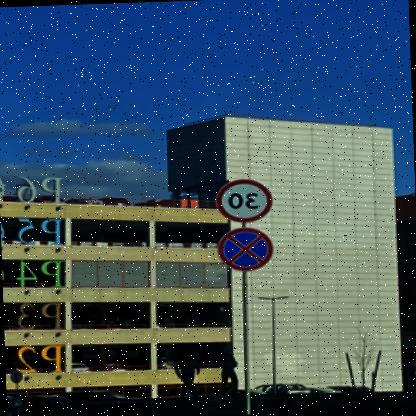speedlimit: (219, 176, 276, 222)
